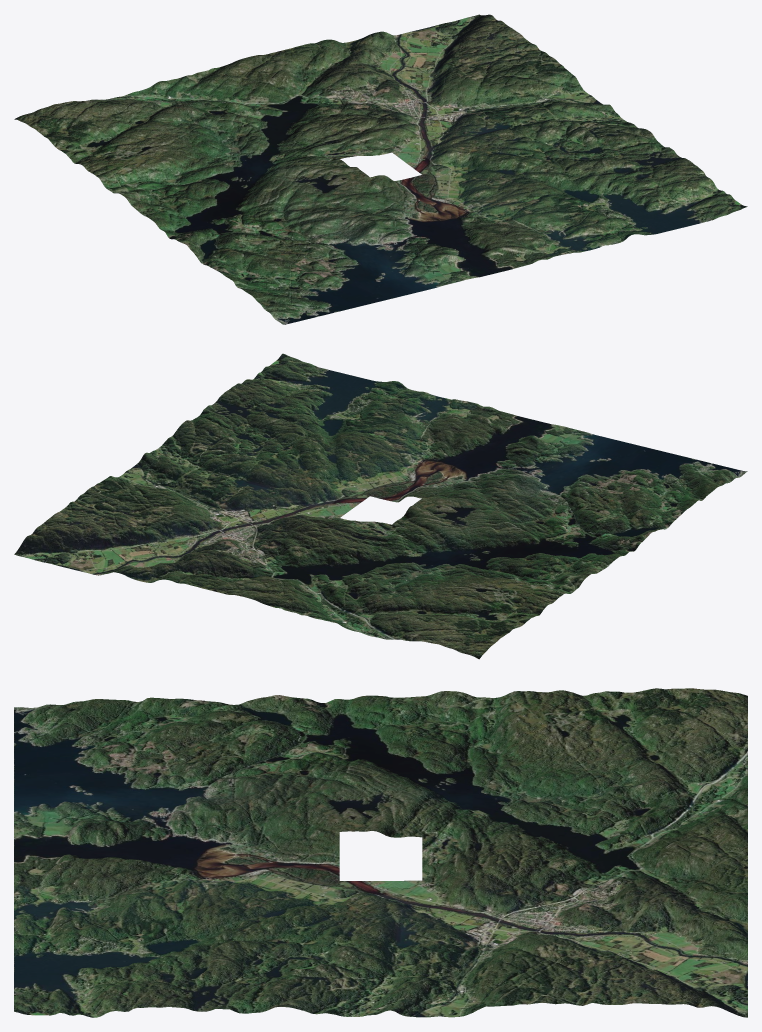
The model's file is surround_terrain.glb.
3 views of the same model, one above another, from view 1: azimuth 30°, elevation 25°; view 2: azimuth 150°, elevation 25°; view 3: azimuth 270°, elevation 25° (orthographic). The views are drawn at different scales.
Parts seen in each view (by area): view 1: web_surround_terrain; view 2: web_surround_terrain; view 3: web_surround_terrain.
Boxes of the visible parts, x1,y1,x2,y2 form: web_surround_terrain: [14, 14, 747, 324]; web_surround_terrain: [14, 353, 747, 659]; web_surround_terrain: [14, 688, 747, 1017].
Bounding box in the file's own units: 8000 × 262 × 8000.
1 material, 1 textured.
